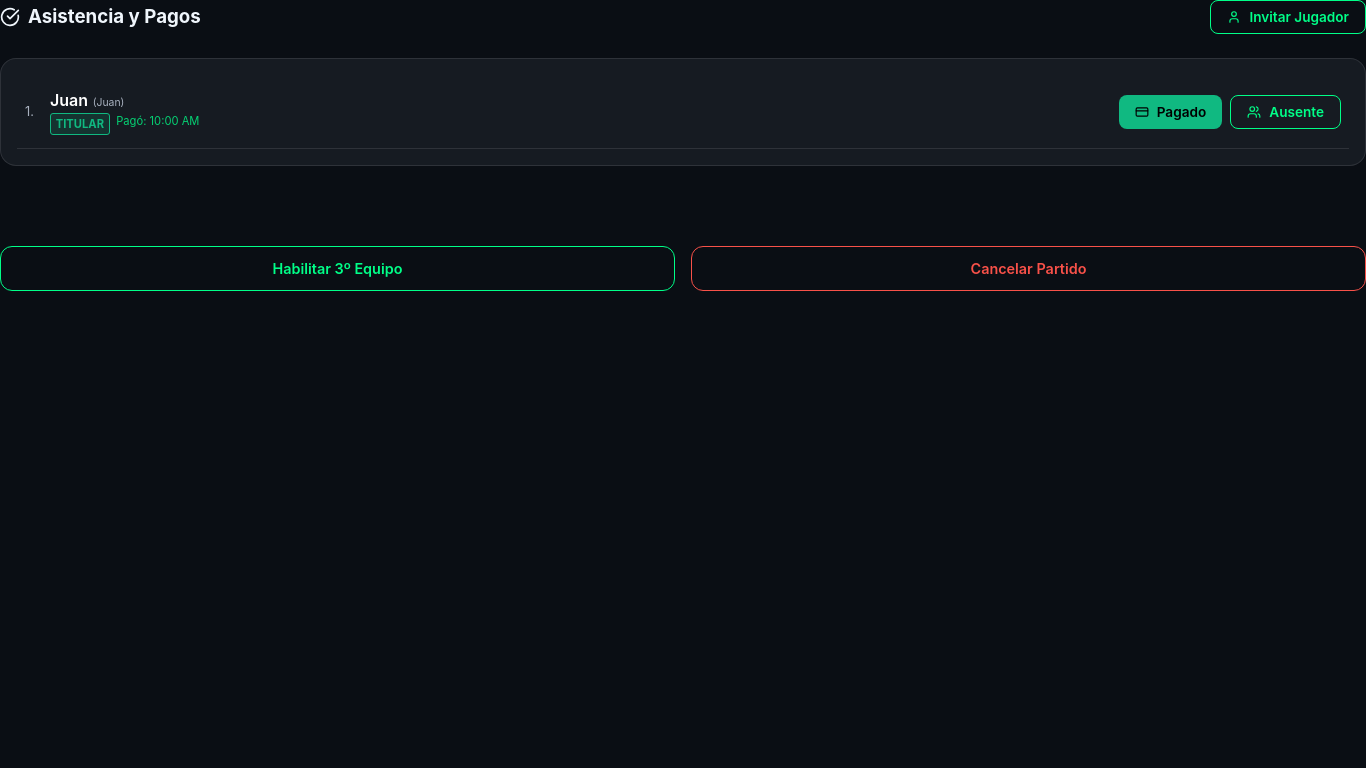
Test: AdminTab › Confirmation Modals › shows confirmation when clicking Pagado (removing payment)
The image size is (1366, 768).
Note: Click "Pagado" button
Click the button "Pagado" at [1170, 112], box [1119,95,1222,129]
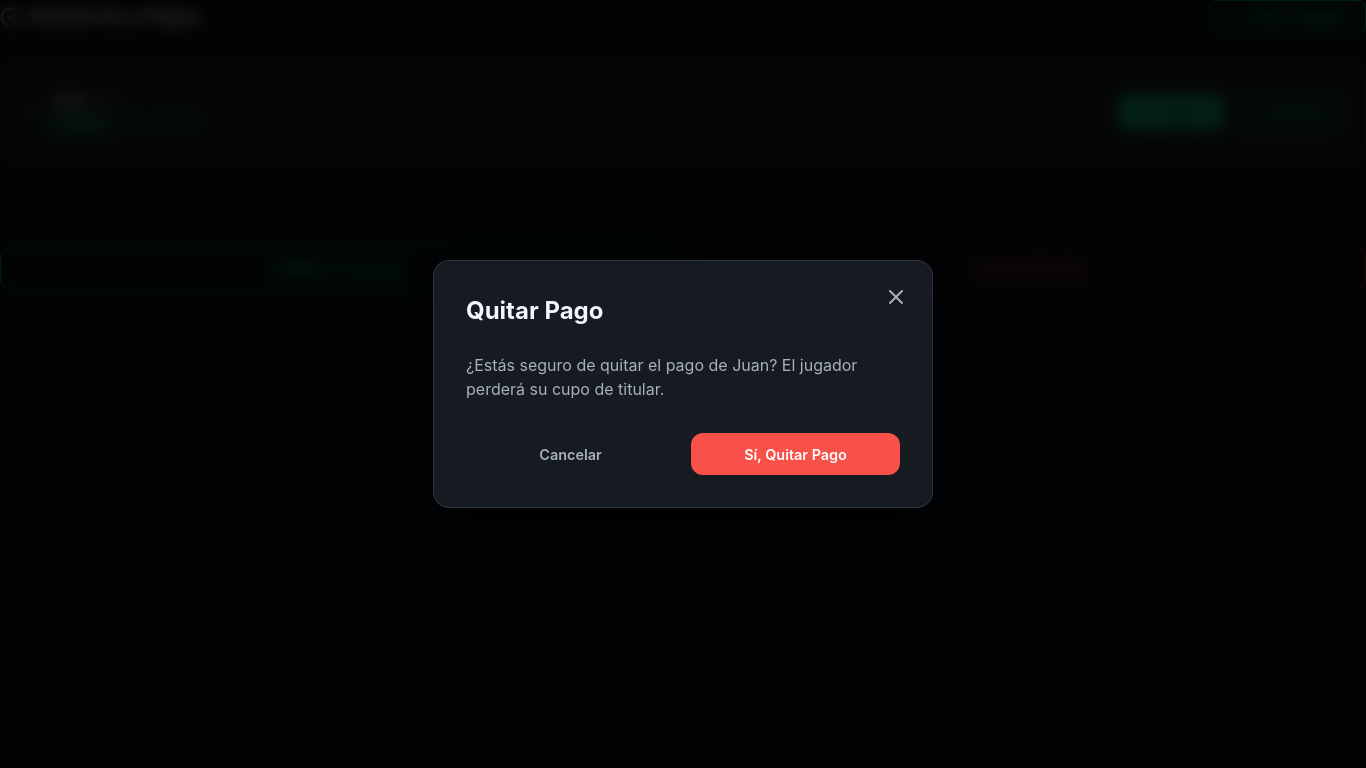
expect the heading "Quitar Pago" is shown: met, box [466,296,604,325]
expect the text "¿Estás seguro de quitar el pago" is shown: met, box [466,355,857,399]
